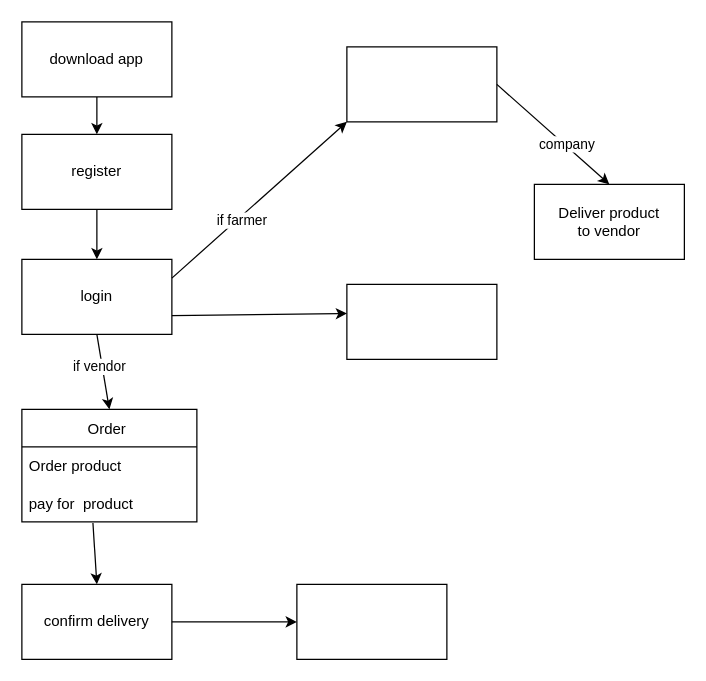
Some shapes in this 706 by 681 pixel diagram are drawn without their labels. The centre of each missing label's shape, as x and y in pixels:
sell product to twiga: the point at 421,84
send feedback: the point at 371,621
view products: the point at 421,321
